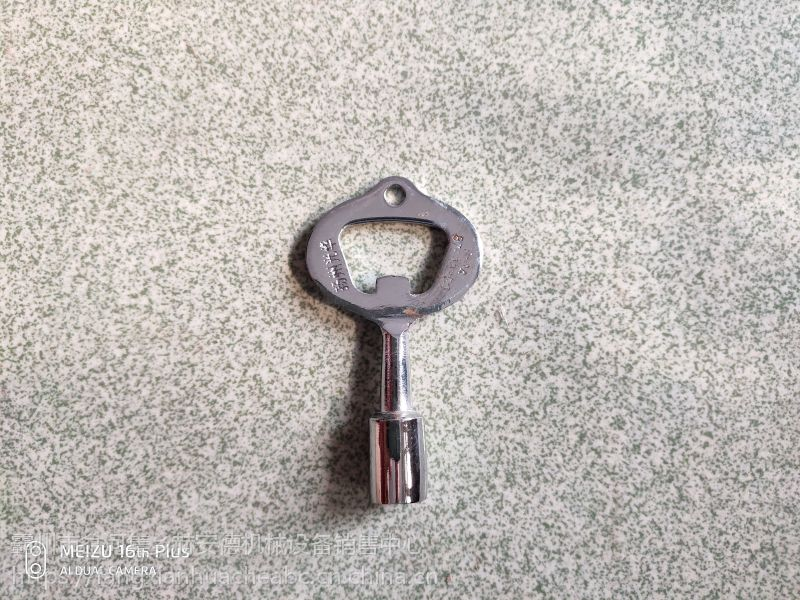key: (287, 169, 489, 515)
